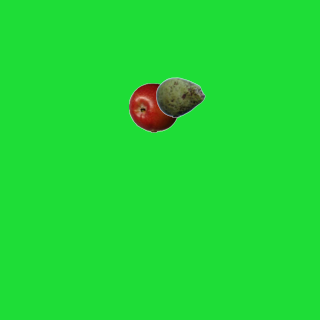Apple Braeburn: (128, 82, 178, 132)
Pear Stone: (155, 72, 205, 122)
